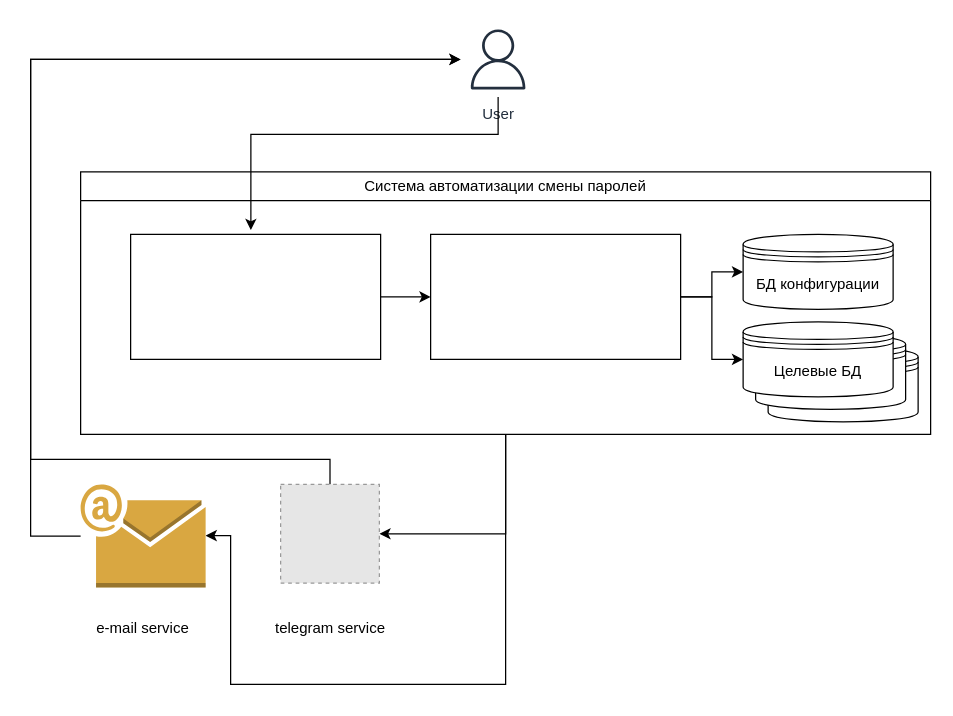
The diagram is 953 pixels wide and 716 high, and some of its shapes have lost their labels. Grey dashed boxes stand in for pictures. Here are the shapes that lost their labels. From the top down, the centre of each, then its label:
(x=255, y=296): Вебсервис доступа к API
(x=555, y=296): API приложения
